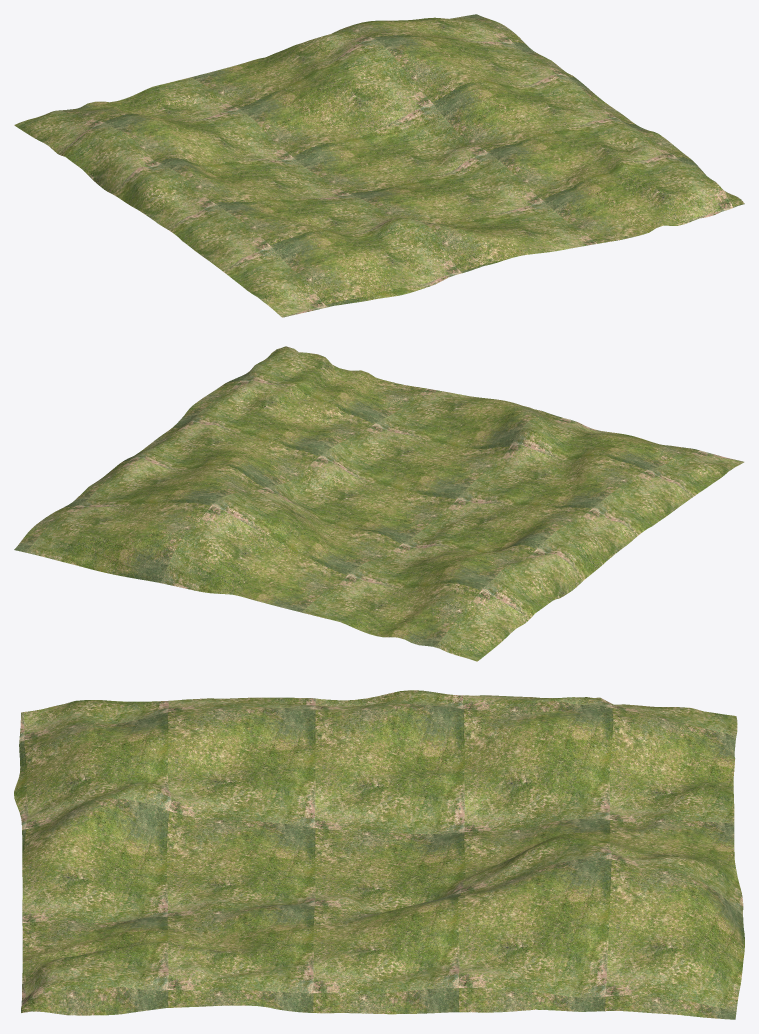
The model's file is SnowTerrain.dae.
The picture shows the model from 3 angles, top to bottom: view 1: azimuth 30°, elevation 25°; view 2: azimuth 150°, elevation 25°; view 3: azimuth 270°, elevation 25°; orthographic projection. The views are drawn at different scales.
Parts seen in each view (by area): view 1: Plane; view 2: Plane; view 3: Plane.
Boxes of the visible parts, x1,y1,x2,y2 form: Plane: (14, 14, 744, 317); Plane: (14, 346, 744, 661); Plane: (14, 690, 744, 1019).
Size of the model in its own units: 63.5 by 63.96 by 6.28.
1 material, 1 textured.
